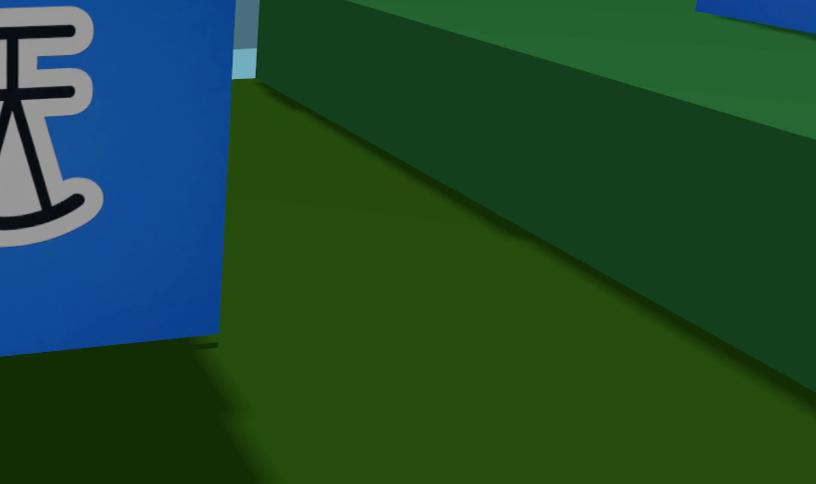KFS_REAL: (0, 0, 235, 355), (0, 7, 100, 246), (697, 0, 815, 33)
